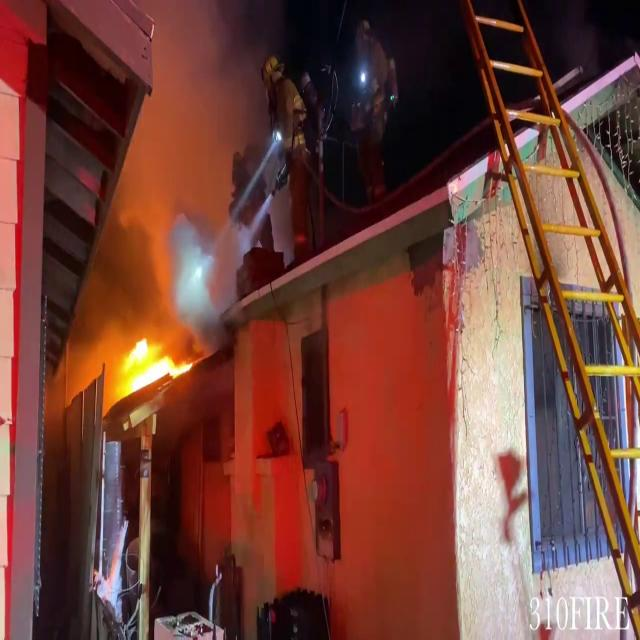Fire: (114, 328, 194, 402)
Smoke: (85, 0, 283, 308)
